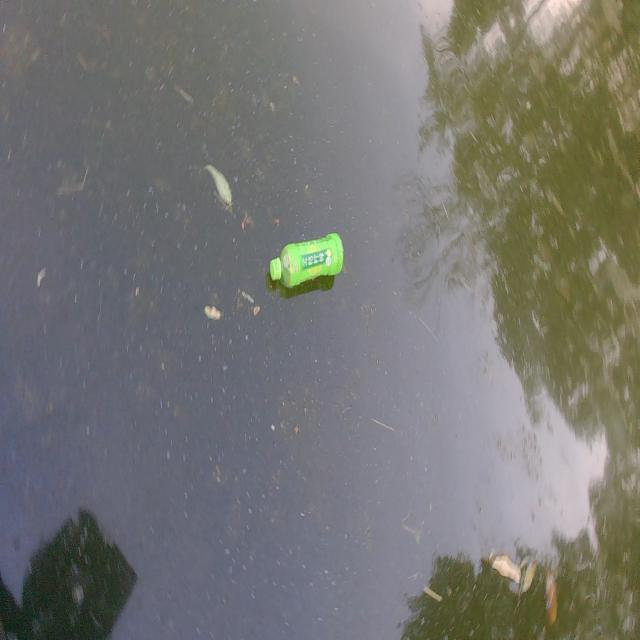bottle: (254, 228, 360, 294)
